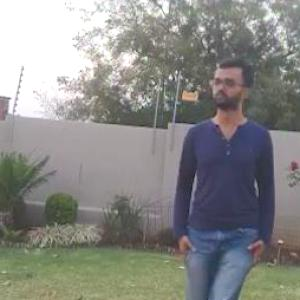follow: (169, 40, 282, 299)
